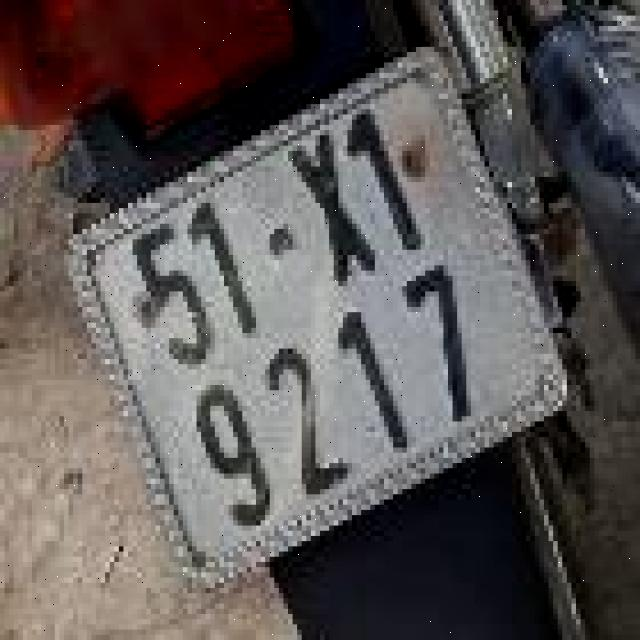1: (331, 93, 445, 264), (321, 287, 429, 463), (179, 181, 273, 348)
2: (256, 327, 366, 502)
5: (117, 210, 229, 377)
7: (390, 248, 506, 436)
9: (179, 364, 292, 547)
X: (276, 120, 393, 298)
